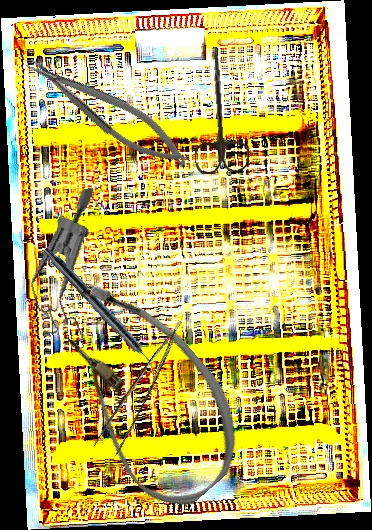Cannula: (18, 263, 269, 523)
Handpiece: (38, 244, 164, 377)
Iris Scissors: (185, 44, 251, 176)
Needle Holder: (20, 41, 196, 181)
Speculum: (6, 186, 135, 356)
Tissue Forceps: (88, 320, 203, 461)
